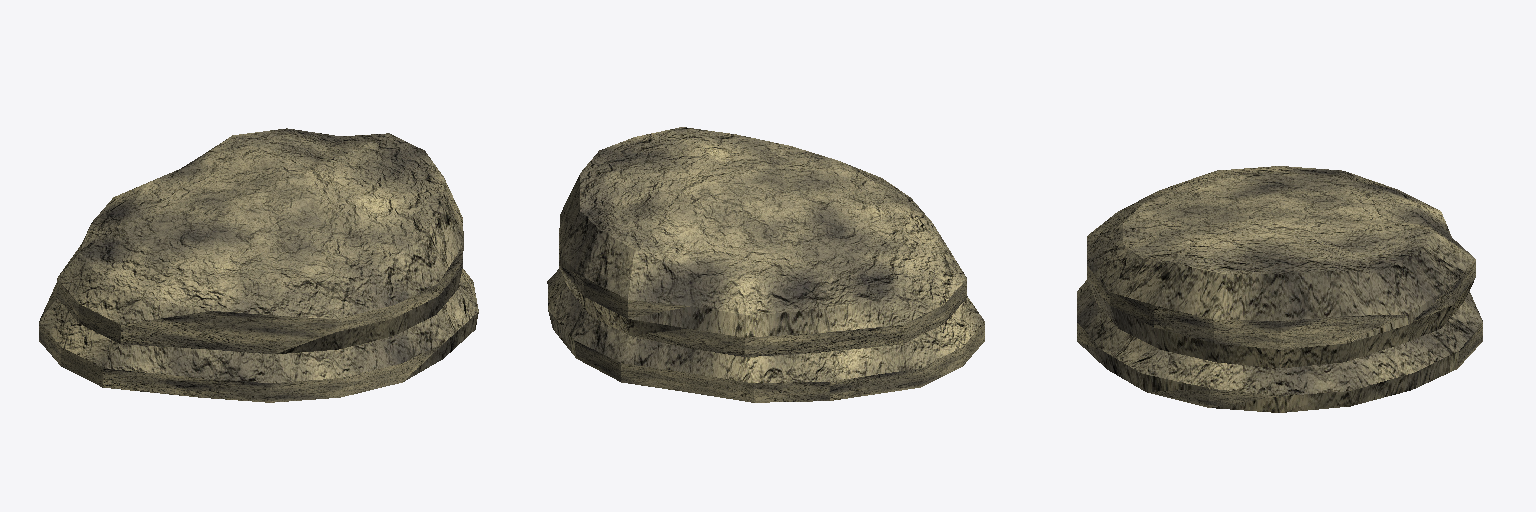
The picture shows the model from 3 angles: view 1: azimuth 30°, elevation 25°; view 2: azimuth 150°, elevation 25°; view 3: azimuth 270°, elevation 25°; orthographic projection.
Visible parts, largest first — view 1: Cylinder001; view 2: Cylinder001; view 3: Cylinder001.
Boxes of the visible parts, x1,y1,x2,y2 form: Cylinder001: [39, 128, 478, 402]; Cylinder001: [547, 127, 984, 402]; Cylinder001: [1077, 166, 1482, 412].
Bounding box in the file's own units: 107 × 33.81 × 96.96.
1 materials, 1 textured.